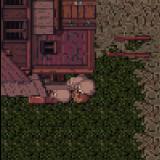Interaction: (112, 27, 158, 71)
Obstacle: (0, 0, 131, 121)
